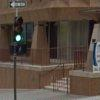stairs: (43, 75, 74, 91)
